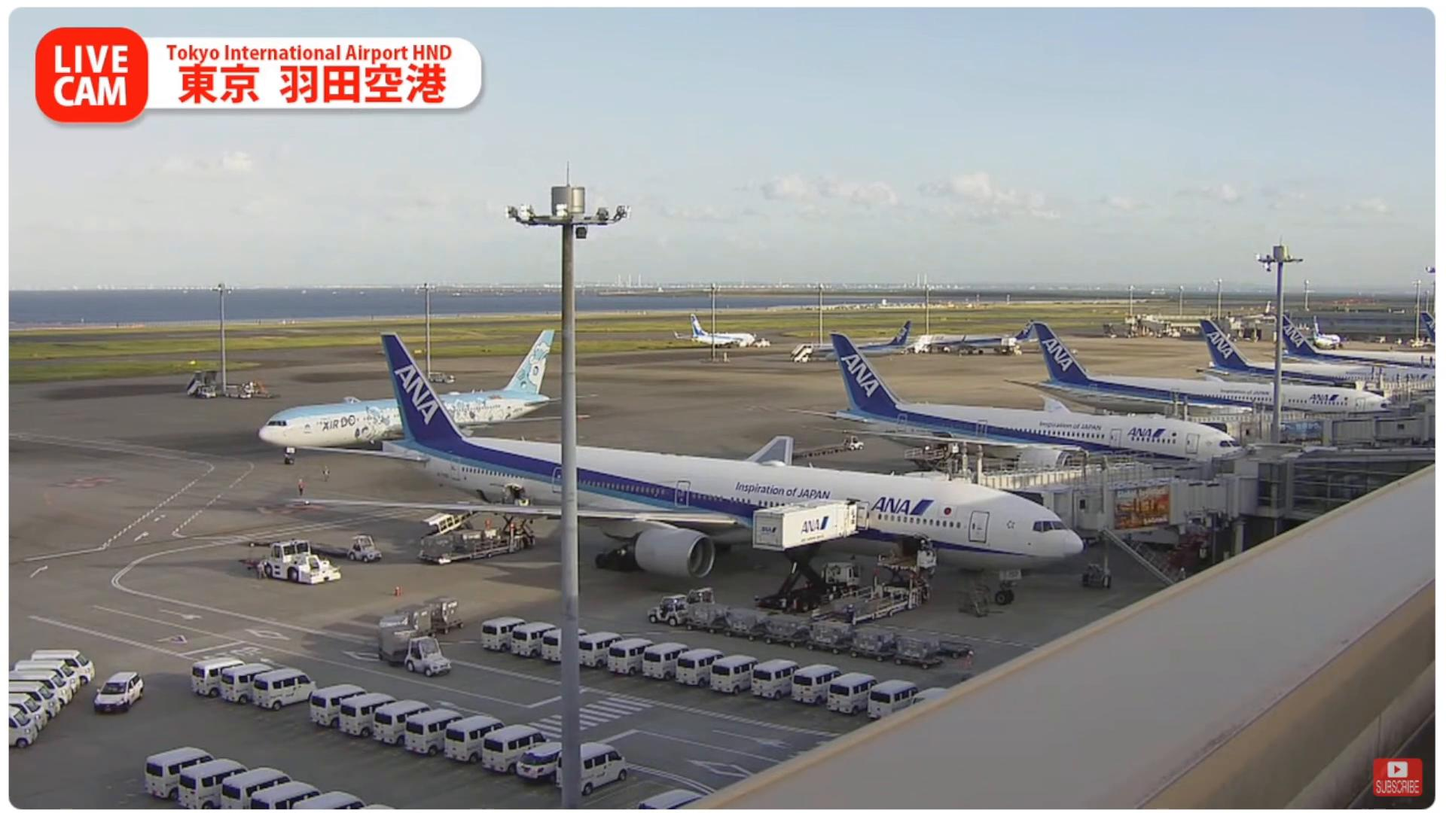APS: (246, 535, 343, 587)
Aerobridge: (990, 474, 1217, 523), (903, 458, 1204, 486)
Airplane: (290, 334, 1085, 584)
Catering: (752, 497, 860, 615)
Dolly: (686, 612, 950, 670), (728, 607, 981, 658), (378, 594, 465, 667), (252, 541, 352, 559)
JCPL: (817, 551, 941, 626), (444, 510, 538, 562)
Skyloader: (419, 512, 479, 546)
Tractor: (404, 635, 455, 675), (688, 588, 732, 622), (650, 593, 695, 624), (345, 536, 388, 563)
Window: (1253, 443, 1435, 520)
